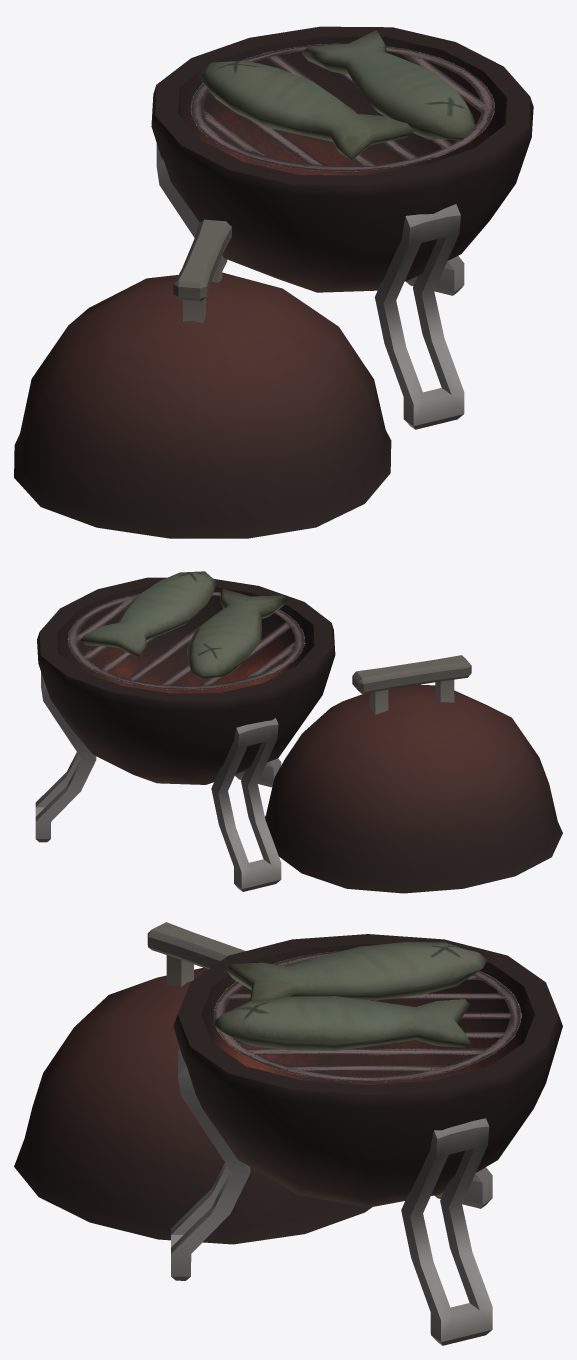
Rendered from grill.fbx.
3 views of the same model, one above another, from view 1: azimuth 30°, elevation 25°; view 2: azimuth 150°, elevation 25°; view 3: azimuth 270°, elevation 25° (orthographic). The views are drawn at different scales.
Parts seen in each view (by area): view 1: wholegrill1; view 2: wholegrill1; view 3: wholegrill1.
Part boxes in pixels (bbox=[...]): wholegrill1: bbox=[14, 26, 533, 538]; wholegrill1: bbox=[35, 571, 562, 893]; wholegrill1: bbox=[14, 922, 562, 1345].
Bounding box in the file's own units: 0.9749 × 0.4787 × 0.8237.
